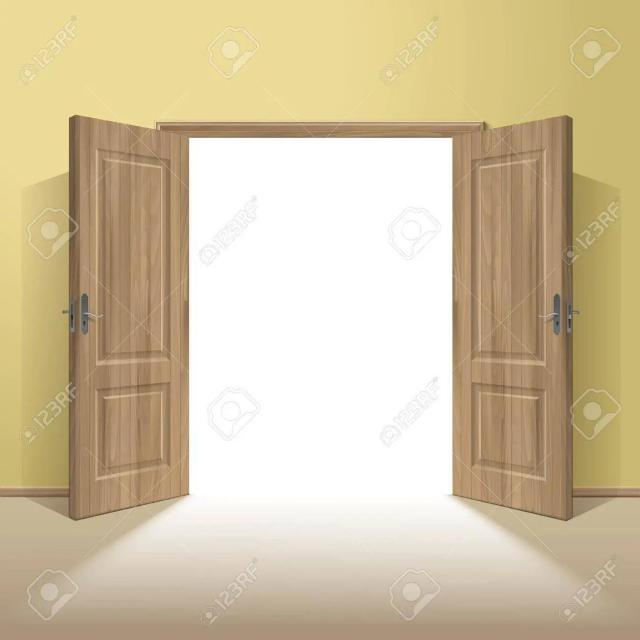open: (56, 97, 595, 543)
